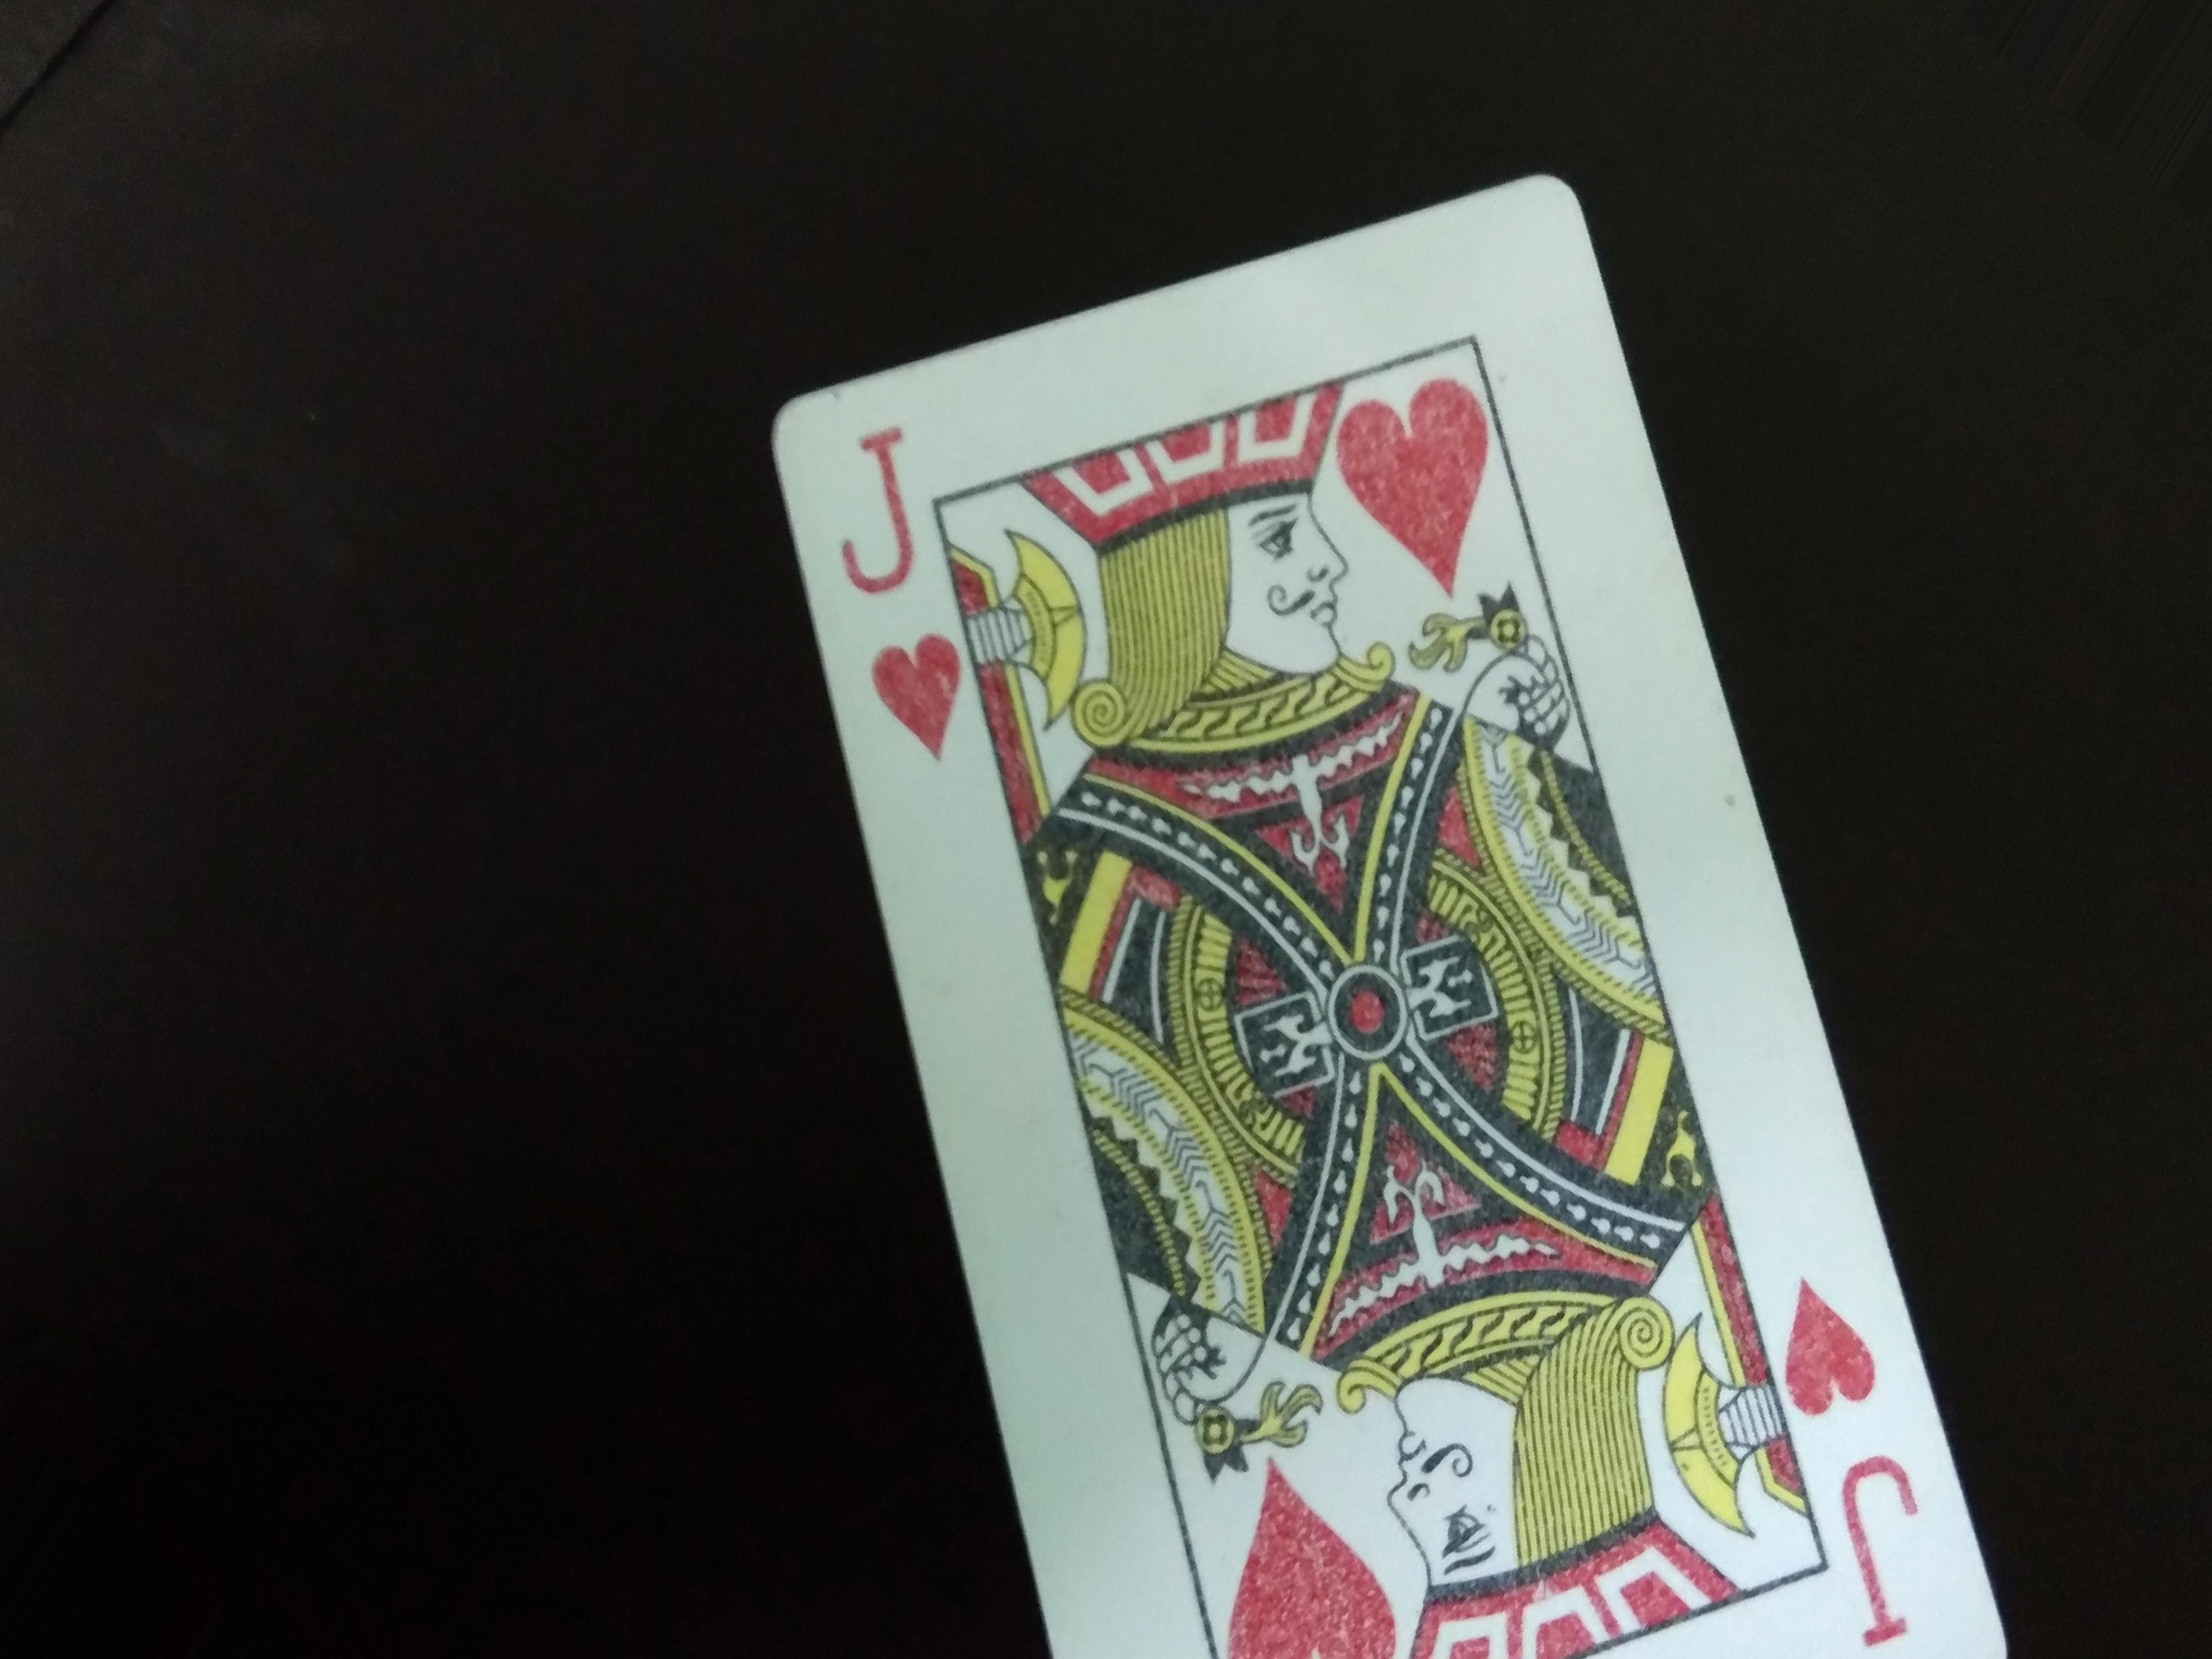JH: (840, 396, 967, 769)
